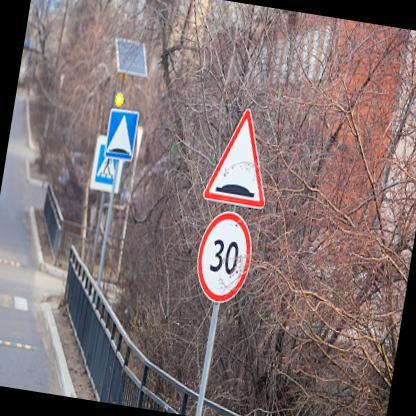obstructed_road_sign: (91, 135, 126, 193)
road_sign: (203, 109, 264, 207), (197, 212, 251, 302), (106, 108, 139, 161)
